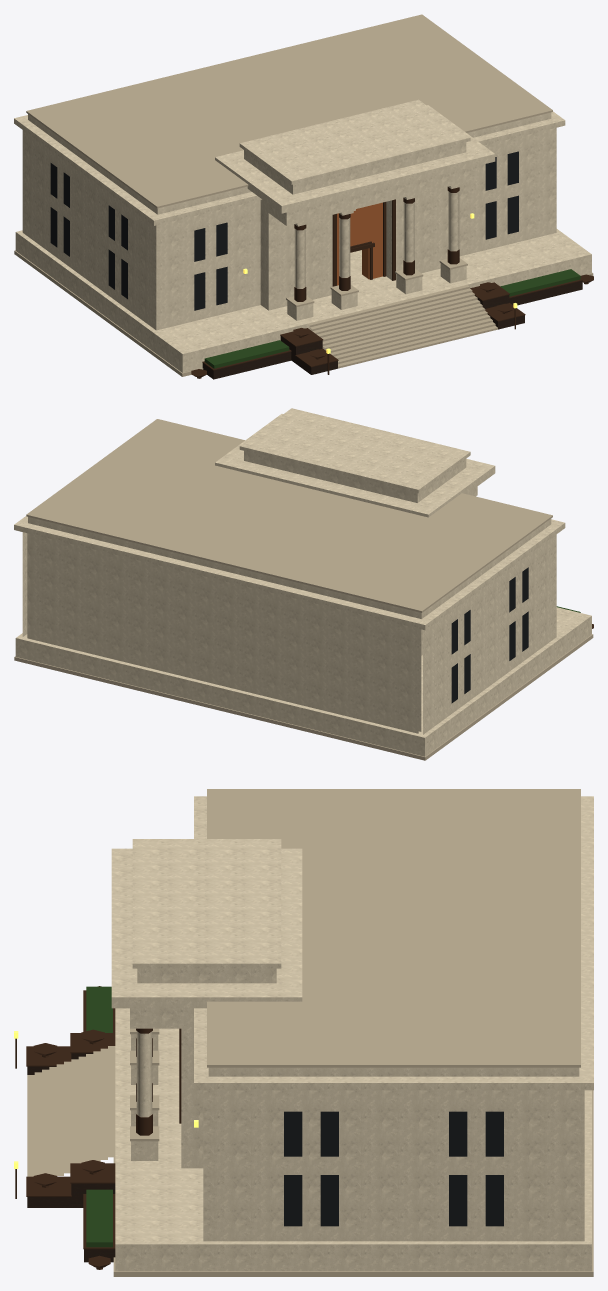
File: civic_hall.glb
3 renders of one model, top to bottom at view 1: azimuth 30°, elevation 25°; view 2: azimuth 150°, elevation 25°; view 3: azimuth 270°, elevation 25°, orthographic. The views are drawn at different scales.
Visible parts, largest first — view 1: civic_hall; view 2: civic_hall; view 3: civic_hall.
Part boxes in pixels (x1,y1,x2,y2): civic_hall: (14,14,593,379); civic_hall: (14,408,593,760); civic_hall: (14,789,593,1276).
Size of the model in its own units: 37 by 13.97 by 31.62.
Materials: 8 (2 with a texture image).
